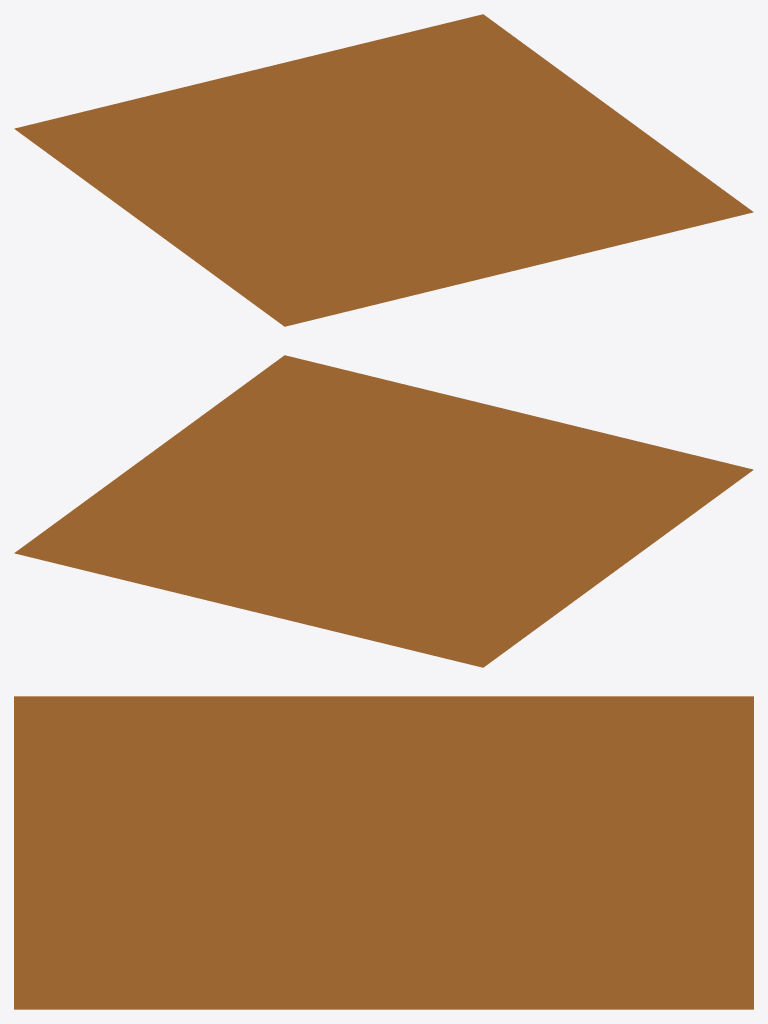
File: SM_Env_Tile_Water_01.glb
3 views of the same model, one above another, from view 1: azimuth 30°, elevation 25°; view 2: azimuth 150°, elevation 25°; view 3: azimuth 270°, elevation 25° (orthographic). The views are drawn at different scales.
Parts seen in each view (by area): view 1: SM_Env_Tile_Water_01; view 2: SM_Env_Tile_Water_01; view 3: SM_Env_Tile_Water_01.
Part boxes in pixels (x1,y1,x2,y2): SM_Env_Tile_Water_01: [14, 14, 753, 326]; SM_Env_Tile_Water_01: [14, 355, 753, 667]; SM_Env_Tile_Water_01: [14, 696, 753, 1009].
Size of the model in its own units: 3 by 2.26e-07 by 3.
1 material, 1 textured.
